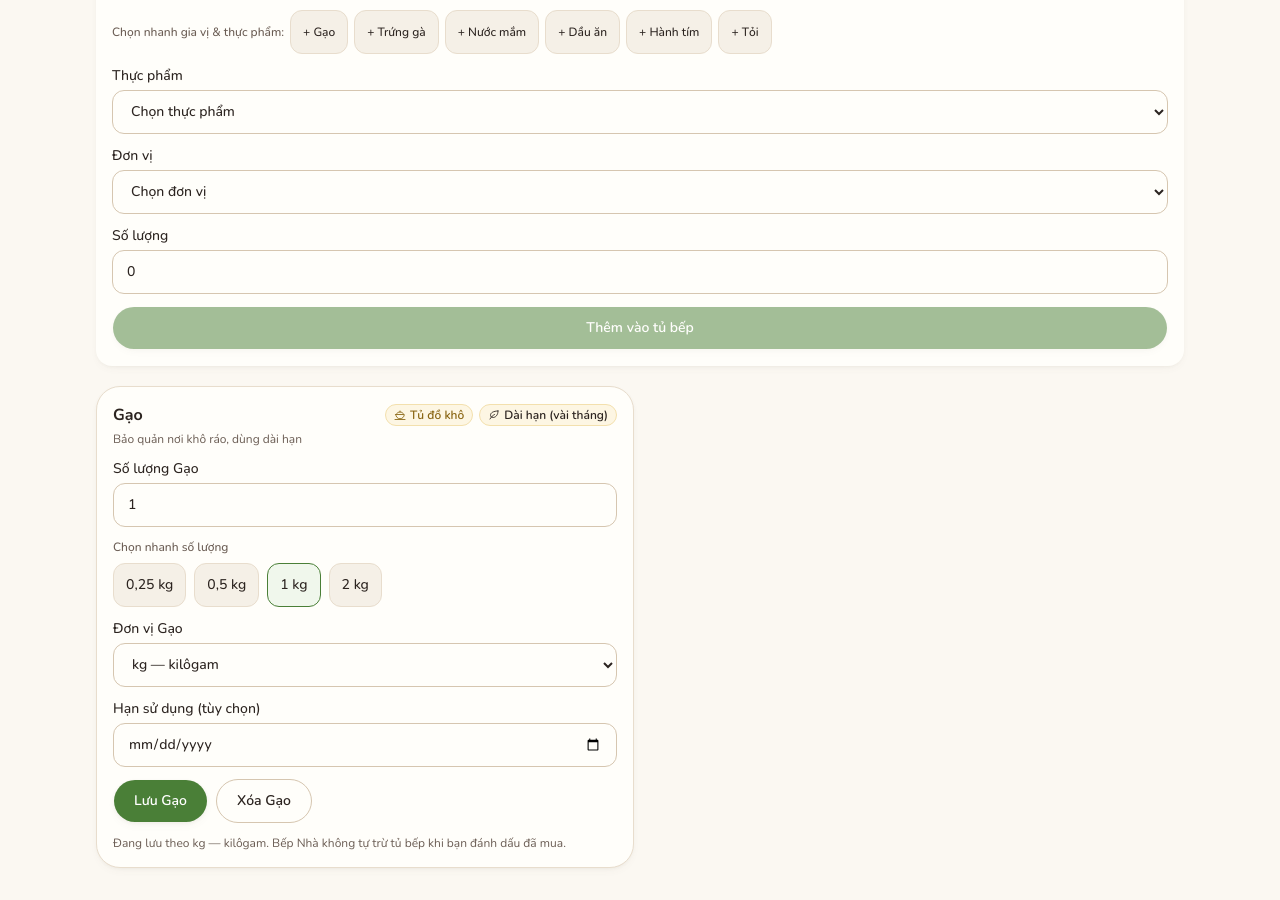
Scenario: PantryPage › reloads instead of overwriting when another session changed an item version
(page scrolled)
Replace the text in the number field labelled "Số lượng Gạo" with "1.5" at (365, 504), box [113,482,617,526]
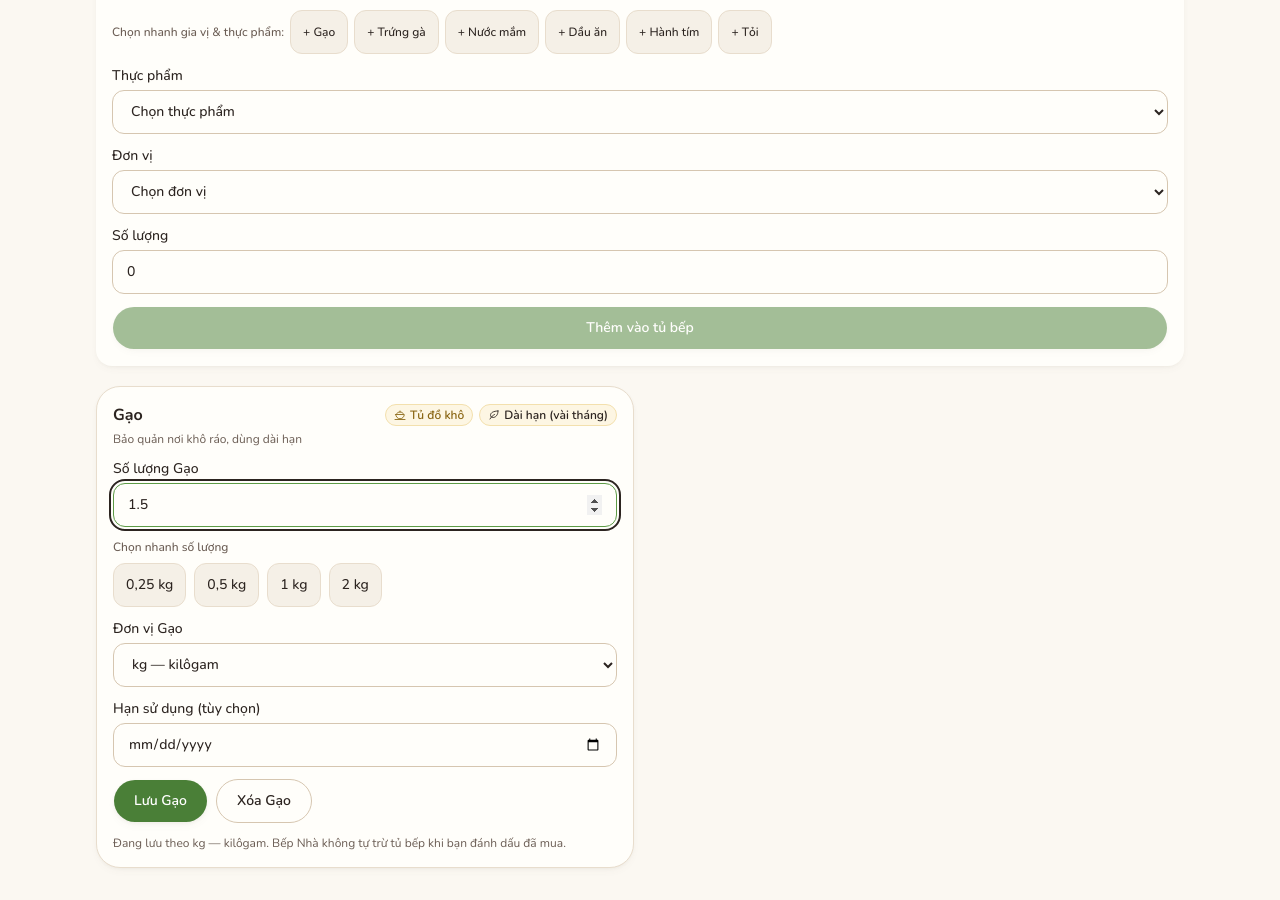
Click the button "Lưu Gạo".
click(160, 800)  # box [113,778,208,822]
(page scrolled)
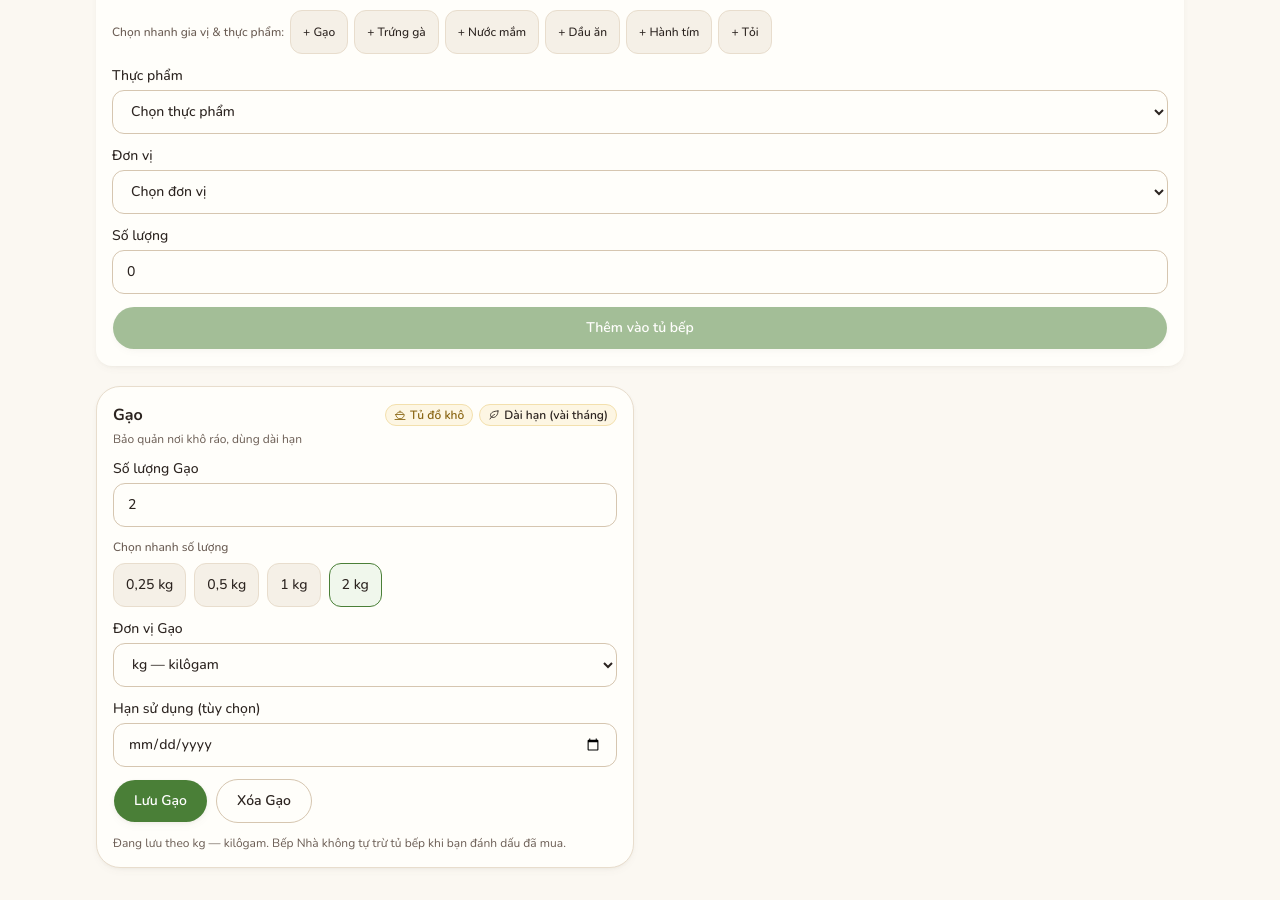
Expected: the number field labelled "Số lượng Gạo" holds "2", [113,482,617,526]
